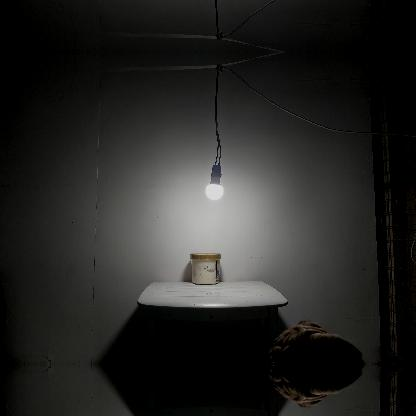Lady-s-Choice: (190, 252, 222, 284)
